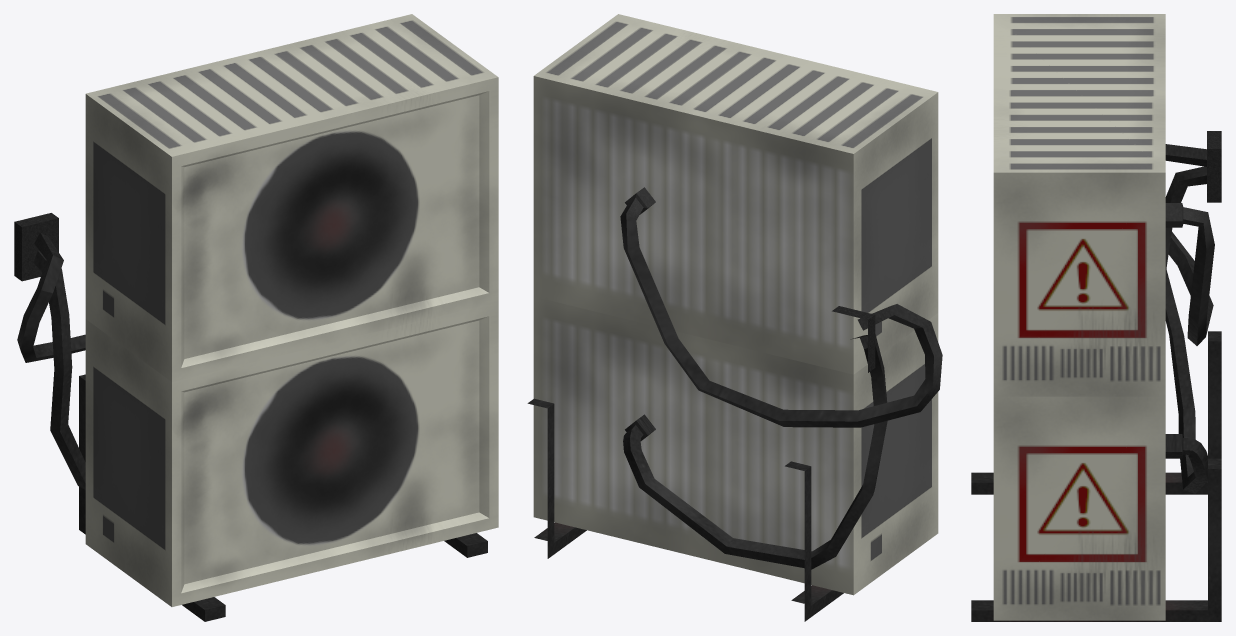
File: air conditioner 2.glb
3 views of the same model, side by side, from view 1: azimuth 30°, elevation 25°; view 2: azimuth 150°, elevation 25°; view 3: azimuth 270°, elevation 25° (orthographic). The views are drawn at different scales.
Visible parts, largest first — view 1: SM_AirConditioner_2; view 2: SM_AirConditioner_2; view 3: SM_AirConditioner_2.
Part boxes in pixels (x1,y1,x2,y2): SM_AirConditioner_2: (14, 14, 498, 621); SM_AirConditioner_2: (527, 14, 942, 621); SM_AirConditioner_2: (971, 14, 1221, 621).
Bounding box in the file's own units: 1.14 × 1.25 × 0.6181.
1 material, 1 textured.
